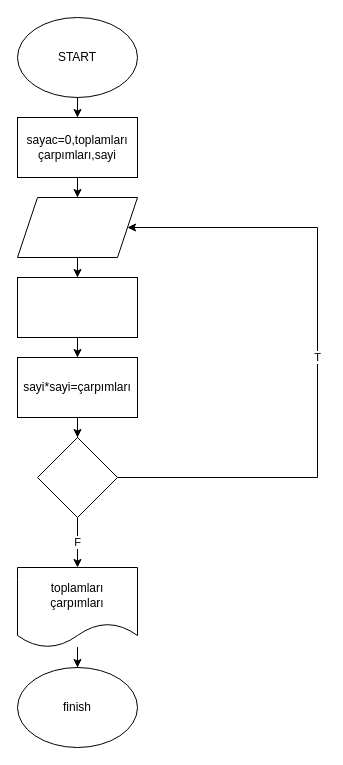
This 343x765 diagram has some shape labels left out. The shapes that lost their labels are listed below. From the top down, each one's box as (x1, y1, x2, y2) in pixels, then its label:
(16, 196, 138, 258): sayi giriniz
(16, 276, 138, 338): sayi+sayi=toplamları
(36, 436, 118, 518): sayac<10
